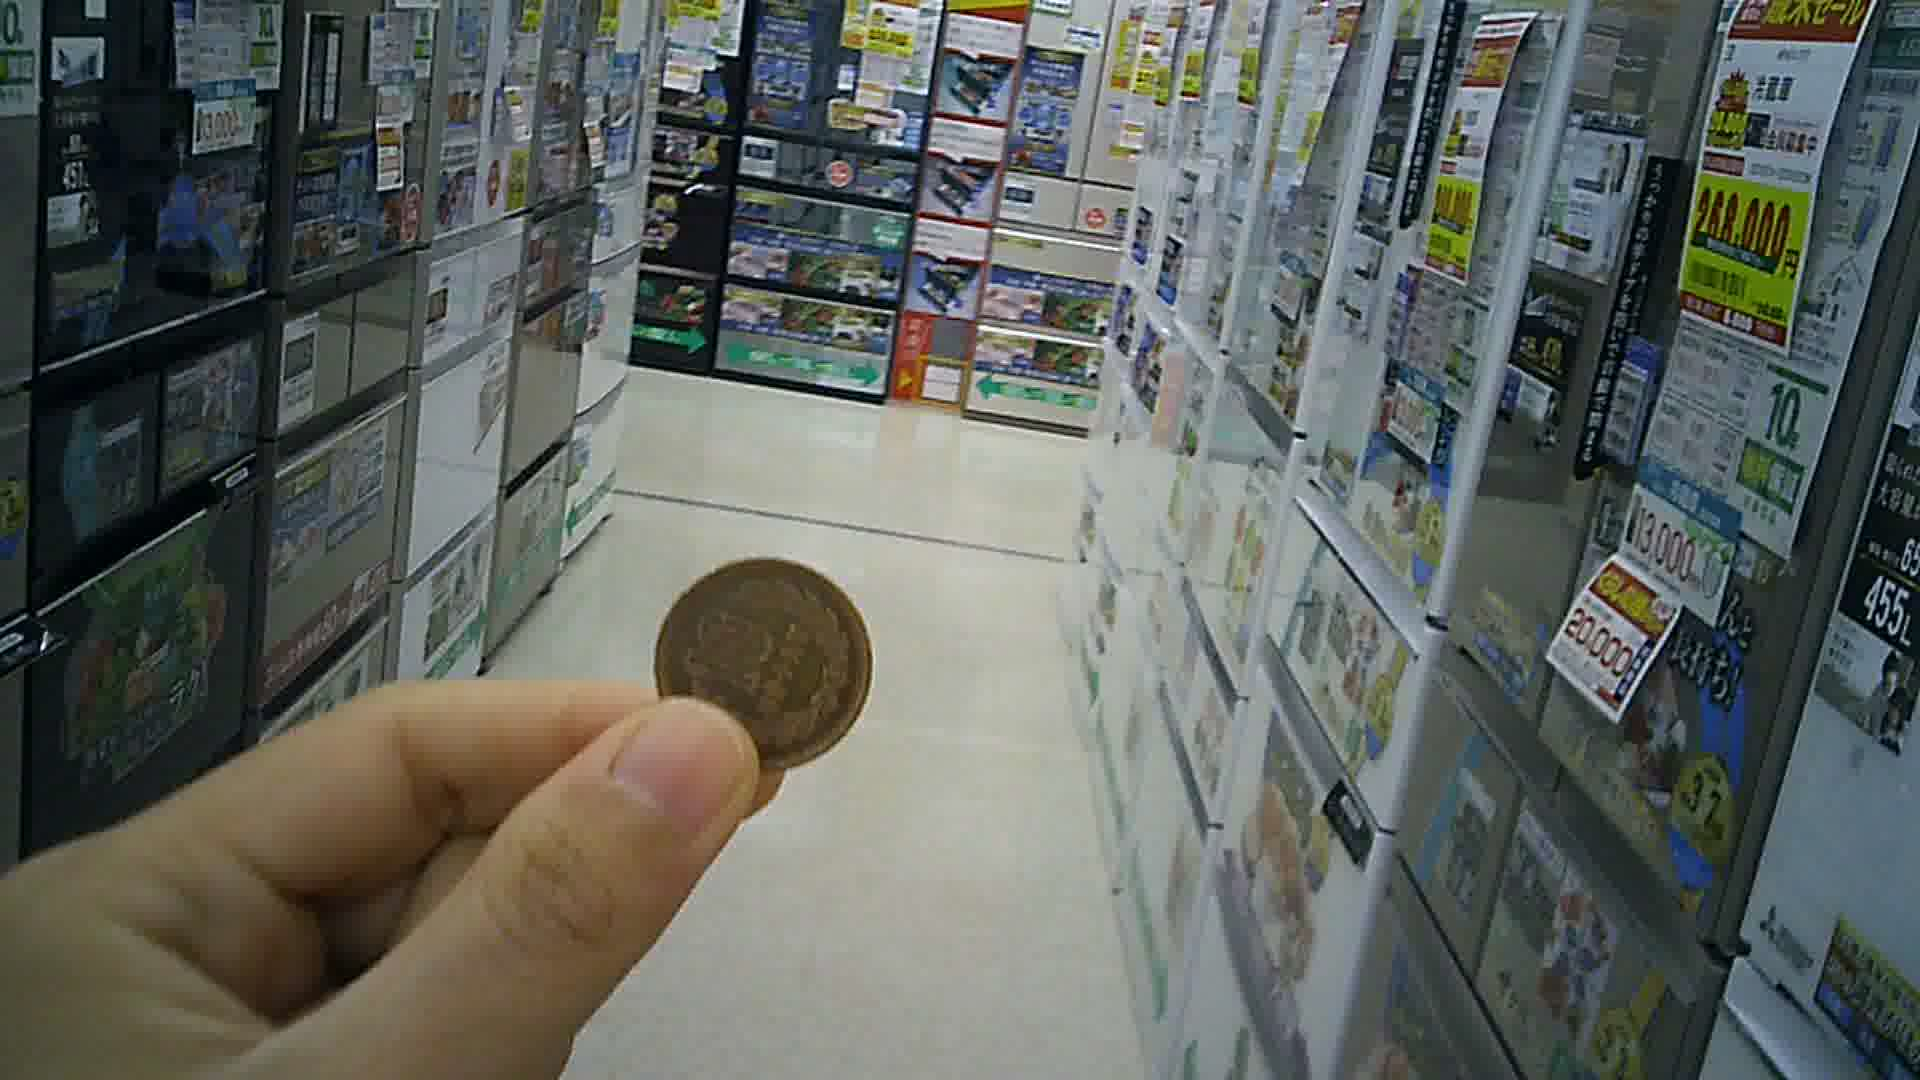10 Yen: (653, 551, 885, 767)
